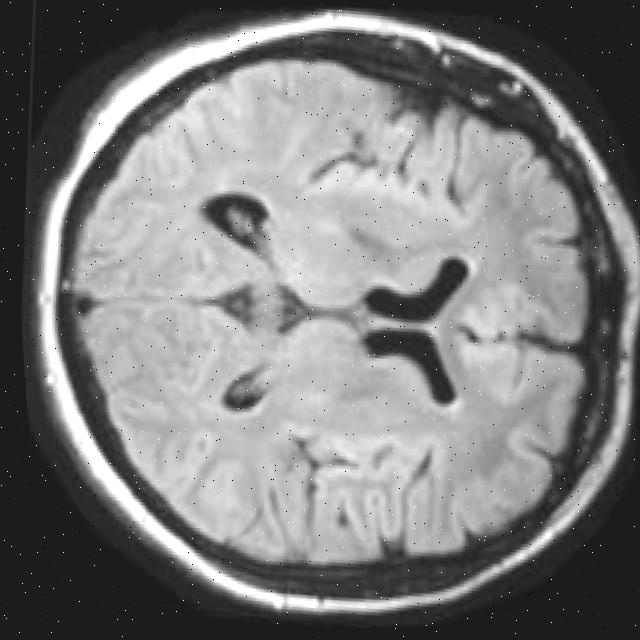NoTumor: (14, 9, 640, 624)
